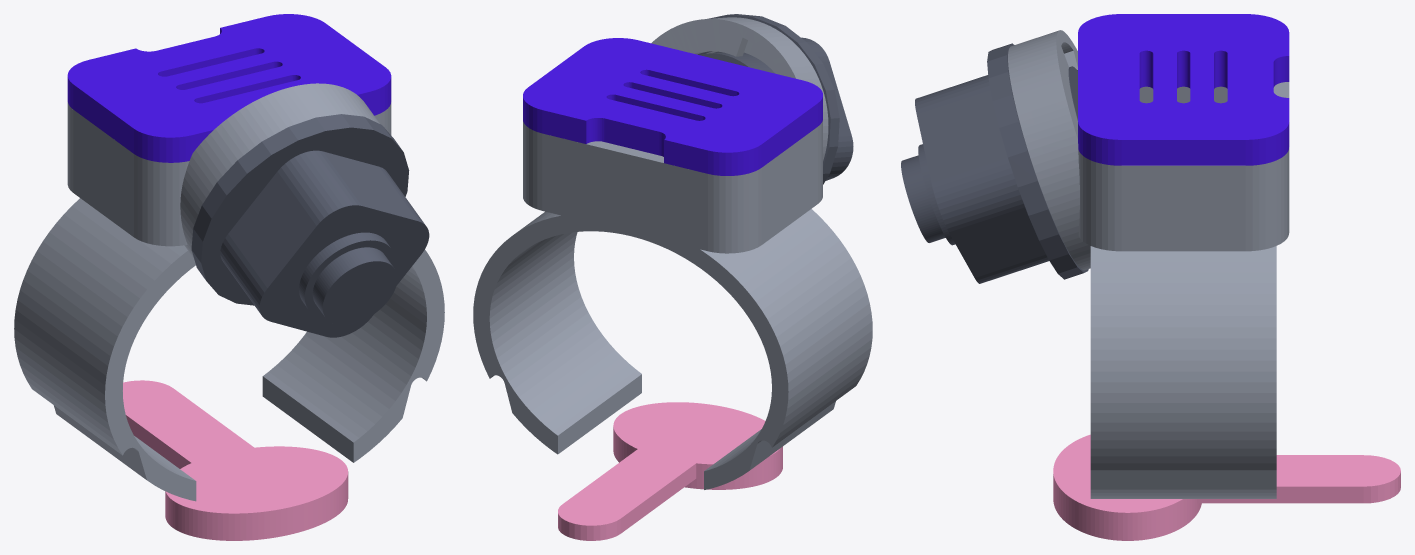
Rendered from band.glb.
The picture shows the model from 3 angles, left to right: view 1: azimuth 30°, elevation 25°; view 2: azimuth 150°, elevation 25°; view 3: azimuth 270°, elevation 25°; orthographic projection. The views are drawn at different scales.
Visible parts, largest first — view 1: band-cuff, band-cam, band-cap, band-pad; view 2: band-cuff, band-cap, band-pad, band-cam; view 3: band-cuff, band-cap, band-cam, band-pad.
Part boxes in pixels (<box>): band-cuff: <box>14,83,444,501</box>; band-cam: <box>191,114,429,337</box>; band-cap: <box>67,14,391,162</box>; band-pad: <box>123,380,348,540</box>; band-cuff: <box>473,17,872,489</box>; band-cap: <box>523,38,822,175</box>; band-pad: <box>558,402,782,540</box>; band-cam: <box>697,14,853,184</box>; band-cuff: <box>1008,30,1289,498</box>; band-cap: <box>1078,14,1289,165</box>; band-cam: <box>901,43,1088,283</box>; band-pad: <box>1053,434,1400,540</box>.
Size of the model in its own units: 64.8 by 82.85 by 80.52.
